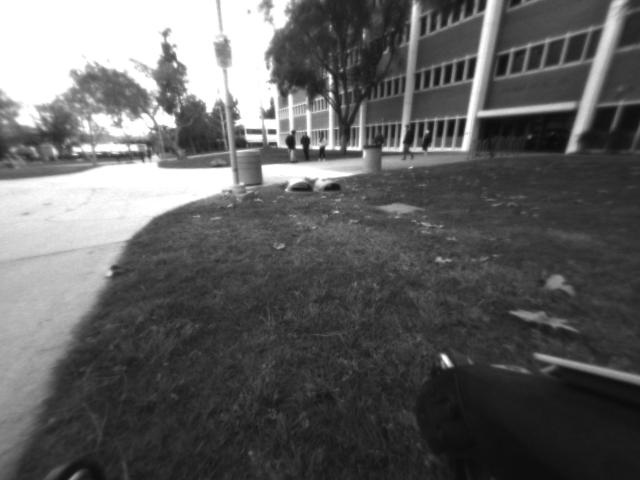trashcan: (235, 146, 266, 191), (359, 143, 382, 174)
